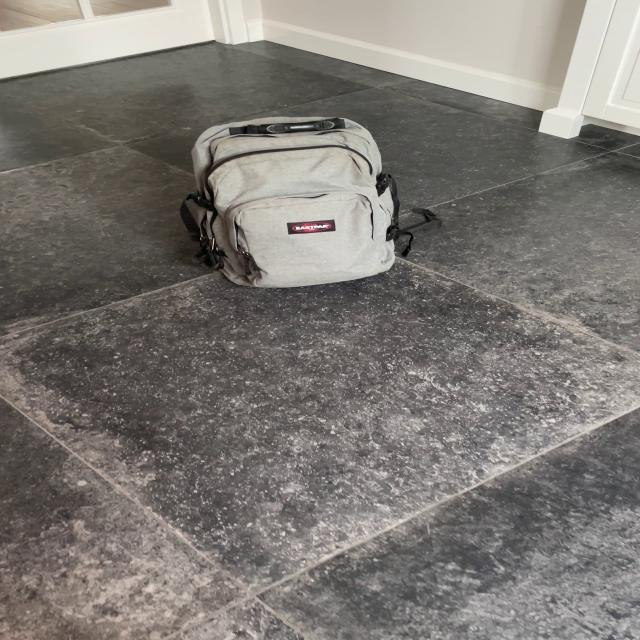backpack: (170, 110, 412, 293)
